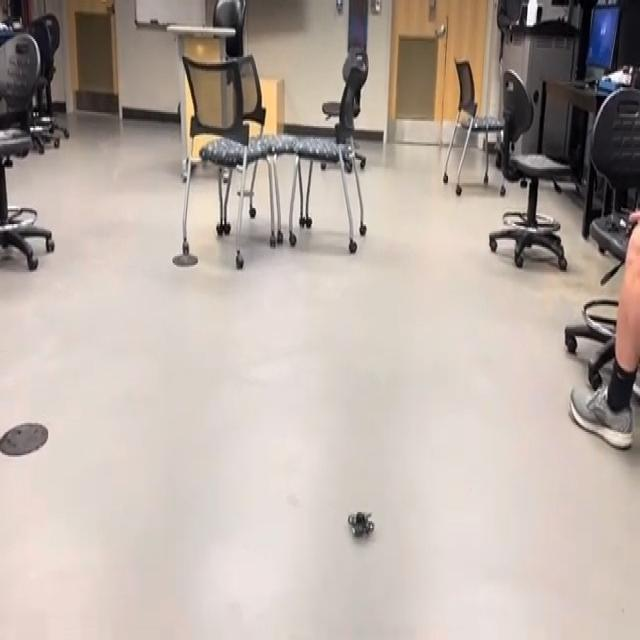drone: (338, 493, 380, 550)
